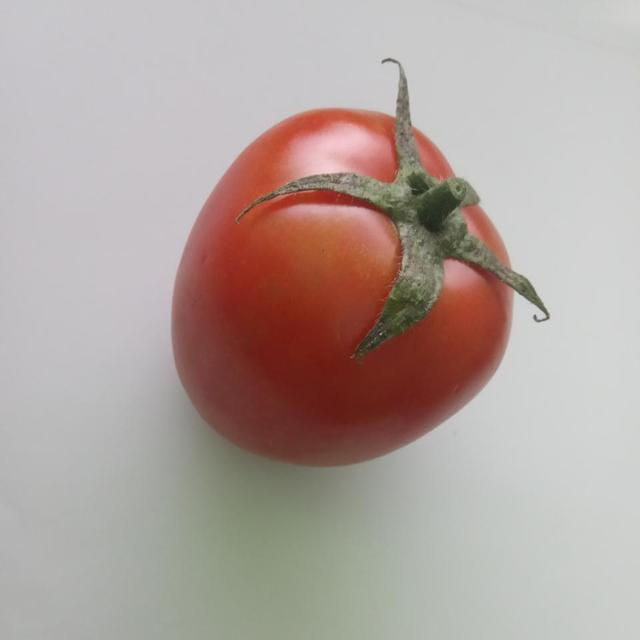Healthy Fruit: (112, 37, 366, 315)
